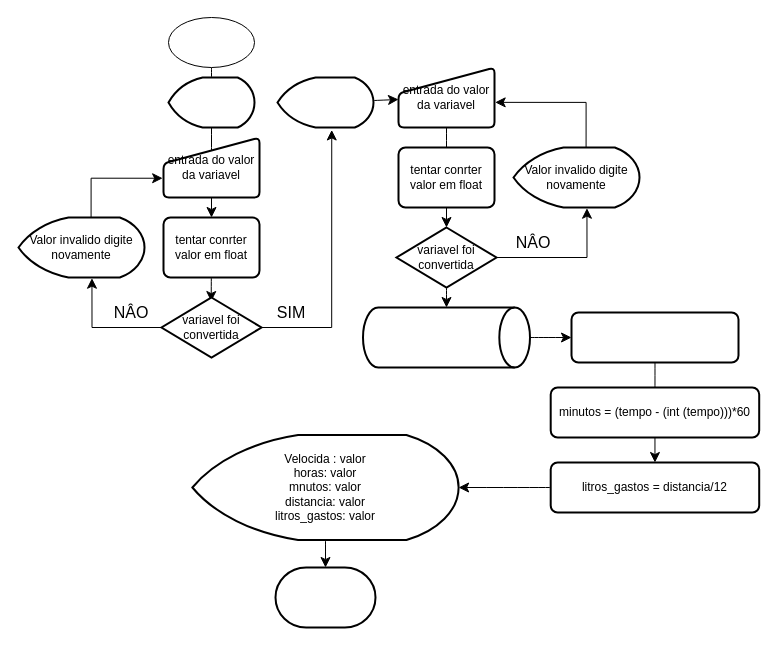
Some shapes in this 777 by 646 pixel diagram are drawn without their labels. Here are the shapes that lost their labels. From the top down, the centre of each, then its label:
At (x=211, y=42): "INICIO".
At (x=211, y=102): "Digite a velocidade".
At (x=325, y=102): "Digite o tempo da viagem".
At (x=446, y=337): "velocidade = valor tempo = valor".
At (x=654, y=337): "distancia = velocidade*tempo".
At (x=325, y=597): "FIM".
